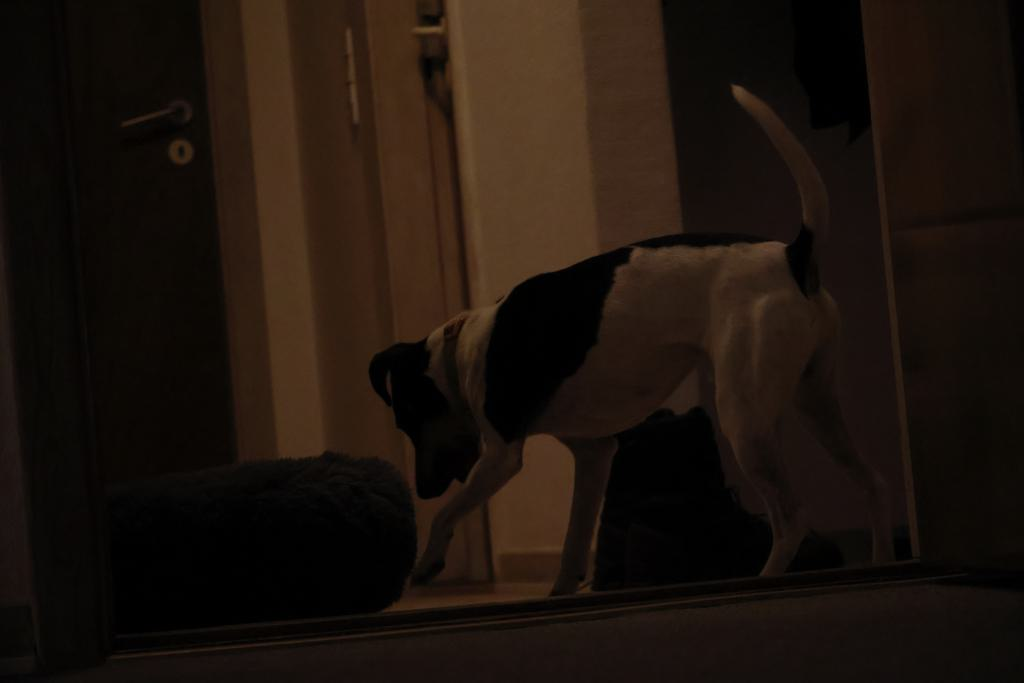Dog: (353, 81, 902, 608)
